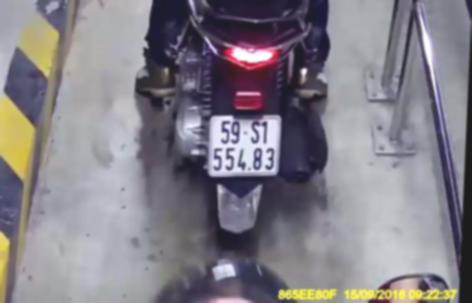License_Plate: (202, 110, 292, 182)
